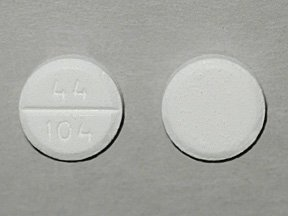Acetaminophen 325 MG Oral Tablet: (151, 50, 274, 168), (13, 54, 130, 166)
